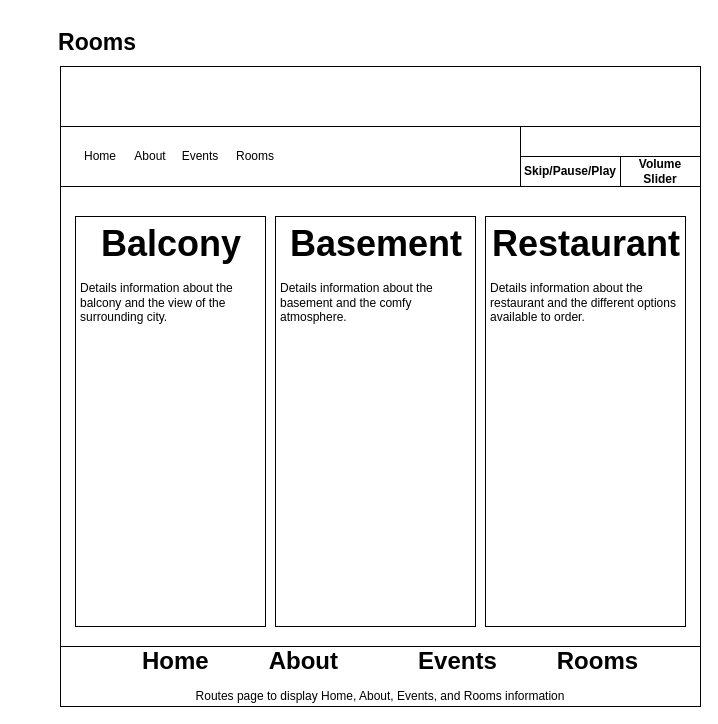
The diagram is 718 pixels wide and 724 high, and some of its shapes have lost their labels. Each missing label, with the centre of its shape:
"Lofi Chai" belongs at (380,96).
"MP3 Player" belongs at (610,141).
